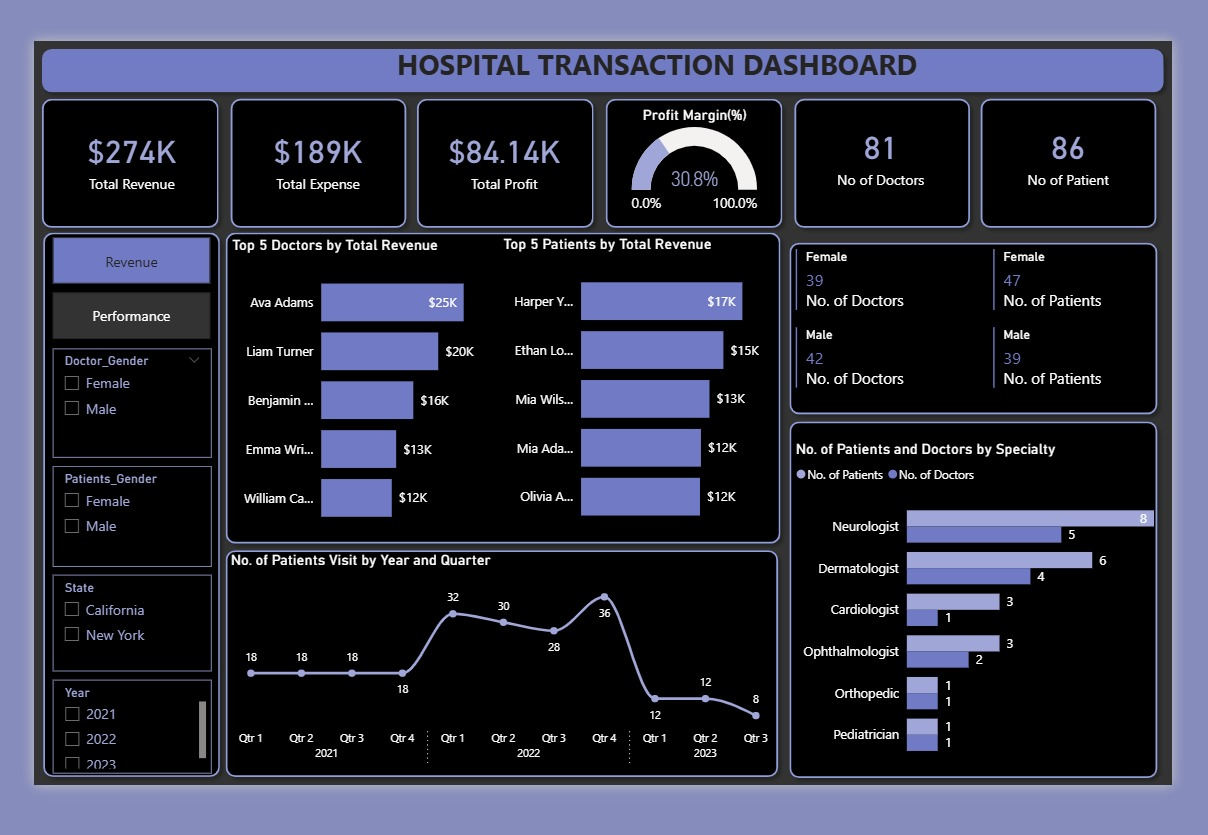

What the dashboard file says about the page in this screenshot:
{"tool":"powerbi","page":{"name":"Performance","canvas":[1300,850],"ordinal":1},"visuals":[{"type":"shape","box":[0,0,1300,67.5],"z":0},{"type":"shape","box":[0,57.3,220,165.3],"z":1000},{"type":"shape","box":[429.1,57.3,220,165.3],"z":2000},{"type":"shape","box":[644.3,57.3,220,165.3],"z":3000},{"type":"shape","box":[859.5,57.3,218.7,165.3],"z":4000},{"type":"shape","box":[1073.3,57.3,218.7,165.3],"z":5000},{"type":"shape","box":[215.2,57.3,218.7,165.3],"z":6000},{"type":"shape","box":[1.3,210.7,220,640],"z":7000},{"type":"shape","box":[210.7,210.7,652,373.3],"z":8000},{"type":"shape","box":[853.8,425.6,438.5,425.6],"z":9000},{"type":"shape","box":[853.8,221.8,438.5,214.1],"z":10000},{"type":"shape","box":[210.7,573.3,649.3,277.3],"z":11000},{"type":"card","fields":{"Values":["Calculated Measure.Total Revenue"]},"box":[21.2,57.5,181.2,153.8],"z":12000},{"type":"card","fields":{"Values":["Calculated Measure.Total Expense"]},"box":[233.8,57.5,181.2,153.8],"z":13000},{"type":"card","fields":{"Values":["CountNonNull(Patients Dim.PatientID)"]},"box":[1091.2,57.5,181.2,145],"z":14000},{"type":"gauge","fields":{"Y":["Calculated Measure.Profit Margin(%)"]},"box":[663.8,73.8,181.2,132.5],"z":15000},{"type":"card","fields":{"Values":["Calculated Measure.Total Profit"]},"box":[447.5,57.5,181.2,153.8],"z":16000},{"type":"card","fields":{"Values":["CountNonNull(Doctors Dim.DoctorID)"]},"box":[877.5,57.5,181.2,145],"z":17000},{"type":"lineChart","fields":{"Y":["CountNonNull(Hospital Transactions (Fact Table).PatientID)"],"Category":["Calendar Dim.Date.Variation.Date Hierarchy.Year","Calendar Dim.Date.Variation.Date Hierarchy.Quarter","Calendar Dim.Date.Variation.Date Hierarchy.Month"]},"box":[220.5,583.3,633.3,253.8],"z":18000},{"type":"slicer","fields":{"Values":["Doctors Dim.Doctor_Gender"]},"box":[21.6,351.2,181.2,125],"z":19000},{"type":"slicer","fields":{"Values":["Location Dim.State"]},"box":[21.6,610.4,181.2,110],"z":20000},{"type":"slicer","fields":{"Values":["Calendar Dim.Date.Variation.Date Hierarchy.Year"]},"box":[21.6,730,181.2,107.5],"z":21000},{"type":"slicer","fields":{"Values":["Patients Dim.Patients_Gender"]},"box":[21.6,485.8,181.2,115],"z":22000},{"type":"clusteredBarChart","title":"Top 5 Doctors by Total Revenue","fields":{"Y":["Calculated Measure.Total Revenue"],"Category":["Doctors Dim.Doctors Name"]},"box":[221.8,223.1,314.1,350],"z":23000},{"type":"clusteredBarChart","title":"Top 5 Patients by Total Revenue","fields":{"Y":["Calculated Measure.Total Revenue"],"Category":["Patients Dim.Patients Name"]},"box":[530.8,221.8,323.1,350],"z":24000},{"type":"clusteredBarChart","title":"No. of Patients and Doctors by Specialty","fields":{"Category":["Doctors Dim.Specialty"],"Y":["Count(Hospital Transactions (Fact Table).PatientID)","Count(Hospital Transactions (Fact Table).DoctorID)"]},"box":[865.4,456.4,434.6,380.8],"z":25000},{"type":"multiRowCard","fields":{"Values":["Doctors Dim.Doctor_Gender","CountNonNull(Doctors Dim.Doctor_Gender)"]},"box":[865.4,233.3,201.3,192.3],"z":26000},{"type":"multiRowCard","fields":{"Values":["Patients Dim.Patients_Gender","CountNonNull(Patients Dim.Patients_Gender)"]},"box":[1091,233.3,189.7,192.3],"z":27000},{"type":"textbox","box":[211.5,0,930.8,56.4],"z":28000},{"type":"pageNavigator","box":[21.8,224.4,180.8,117.9],"z":29000}]}

Visuals, with their boxes in screenshot pixels (x1, y1, x2, y2):
shape: 28 38 1177 97
shape: 28 88 223 235
shape: 408 88 602 235
shape: 598 88 792 235
shape: 788 88 981 235
shape: 977 88 1170 235
shape: 219 88 412 235
shape: 29 224 224 790
shape: 215 224 791 554
shape: 783 414 1171 790
shape: 783 234 1171 423
shape: 215 544 788 790
card - Calculated Measure.Total Revenue: 47 89 207 225
card - Calculated Measure.Total Expense: 235 89 395 225
card - CountNonNull(Patients Dim.PatientID): 993 89 1153 217
gauge - Calculated Measure.Profit Margin(%): 615 103 775 220
card - Calculated Measure.Total Profit: 424 89 584 225
card - CountNonNull(Doctors Dim.DoctorID): 804 89 964 217
lineChart - CountNonNull(Hospital Transactions (Fact Table).PatientID) x Calendar Dim.Date.Variation.Date Hierarchy.Year: 223 553 783 778
slicer - Doctors Dim.Doctor_Gender: 47 348 208 459
slicer - Location Dim.State: 47 577 208 675
slicer - Calendar Dim.Date.Variation.Date Hierarchy.Year: 47 683 208 778
slicer - Patients Dim.Patients_Gender: 47 467 208 569
"Top 5 Doctors by Total Revenue" clusteredBarChart: 224 235 502 544
"Top 5 Patients by Total Revenue" clusteredBarChart: 497 234 783 543
"No. of Patients and Doctors by Specialty" clusteredBarChart: 793 441 1177 778
multiRowCard - Doctors Dim.Doctor_Gender x CountNonNull(Doctors Dim.Doctor_Gender): 793 244 971 414
multiRowCard - Patients Dim.Patients_Gender x CountNonNull(Patients Dim.Patients_Gender): 993 244 1160 414
textbox: 215 38 1038 88
pageNavigator: 48 236 207 340
